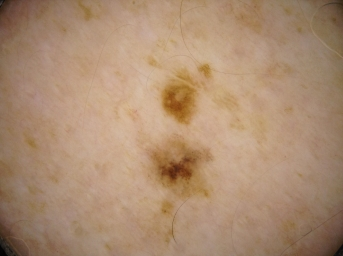melanoma: (156, 145, 200, 191), (165, 73, 200, 126)
